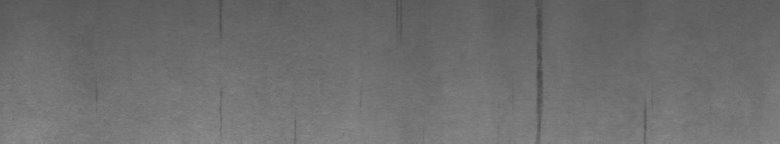hd: (532, 4, 548, 136)
